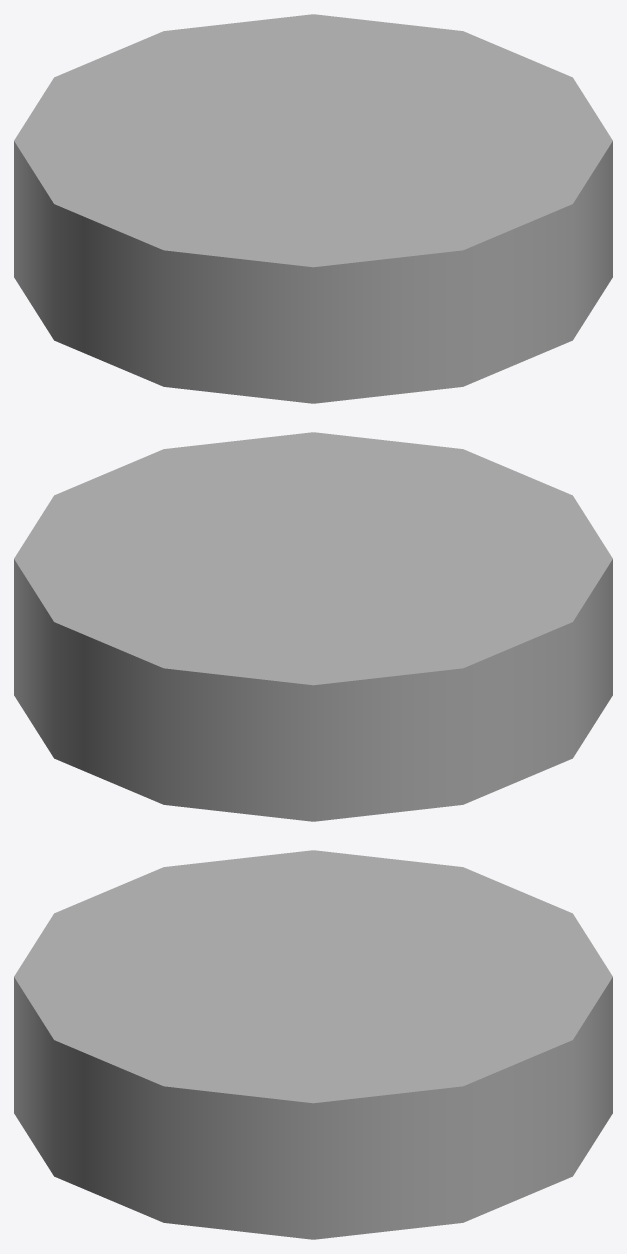
File: between_poles.fbx
3 renders of one model, top to bottom at view 1: azimuth 30°, elevation 25°; view 2: azimuth 150°, elevation 25°; view 3: azimuth 270°, elevation 25°, orthographic.
Parts seen in each view (by area): view 1: Cylinder.001; view 2: Cylinder.001; view 3: Cylinder.001.
Part boxes in pixels (x1,y1,x2,y2): Cylinder.001: (14,14,612,403); Cylinder.001: (14,432,612,821); Cylinder.001: (14,850,612,1239).
Bounding box in the file's own units: 398 × 398 × 100.
